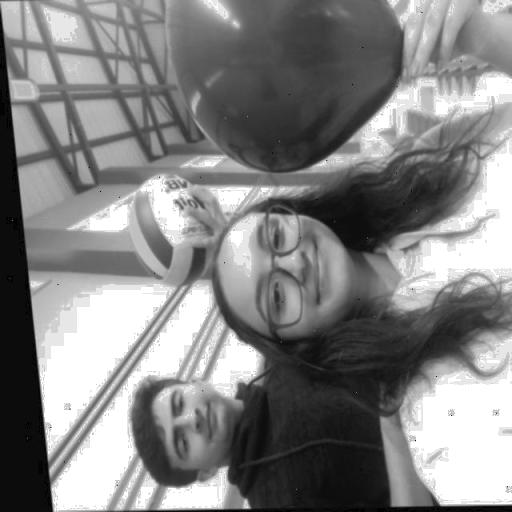balloon: (162, 0, 413, 175)
